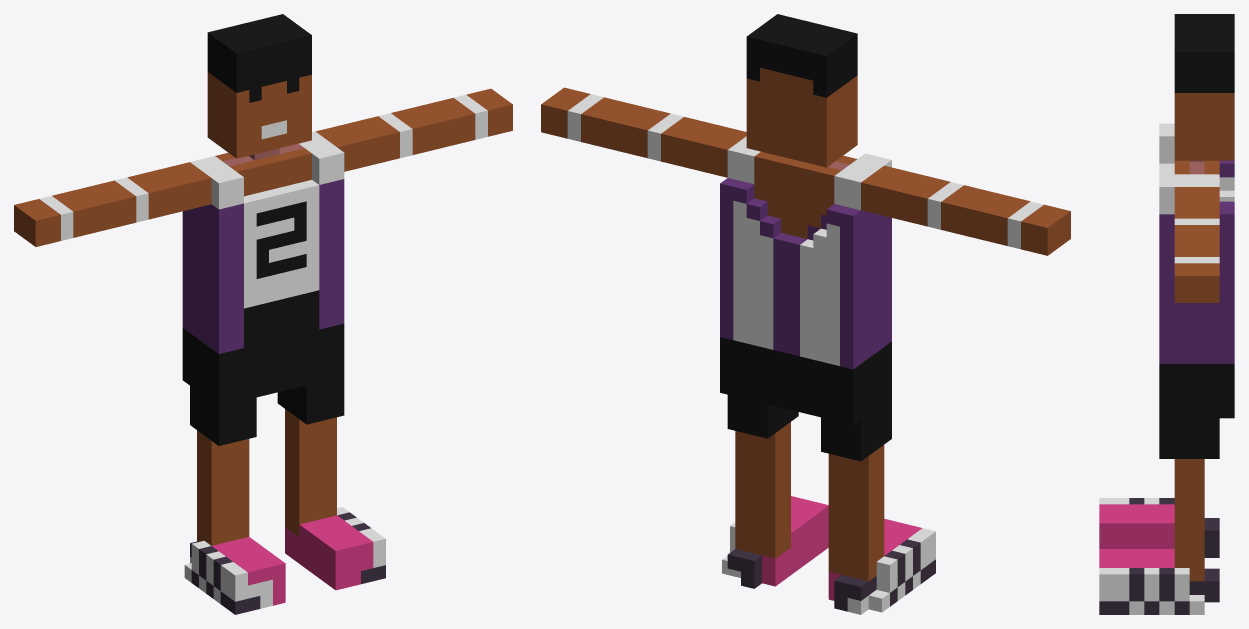
Rendered from volleyball2.obj.
The picture shows the model from 3 angles, left to right: view 1: azimuth 30°, elevation 25°; view 2: azimuth 150°, elevation 25°; view 3: azimuth 270°, elevation 25°; orthographic projection. The views are drawn at different scales.
Size of the model in its own units: 38 by 40 by 9.
1 material, 1 textured.
